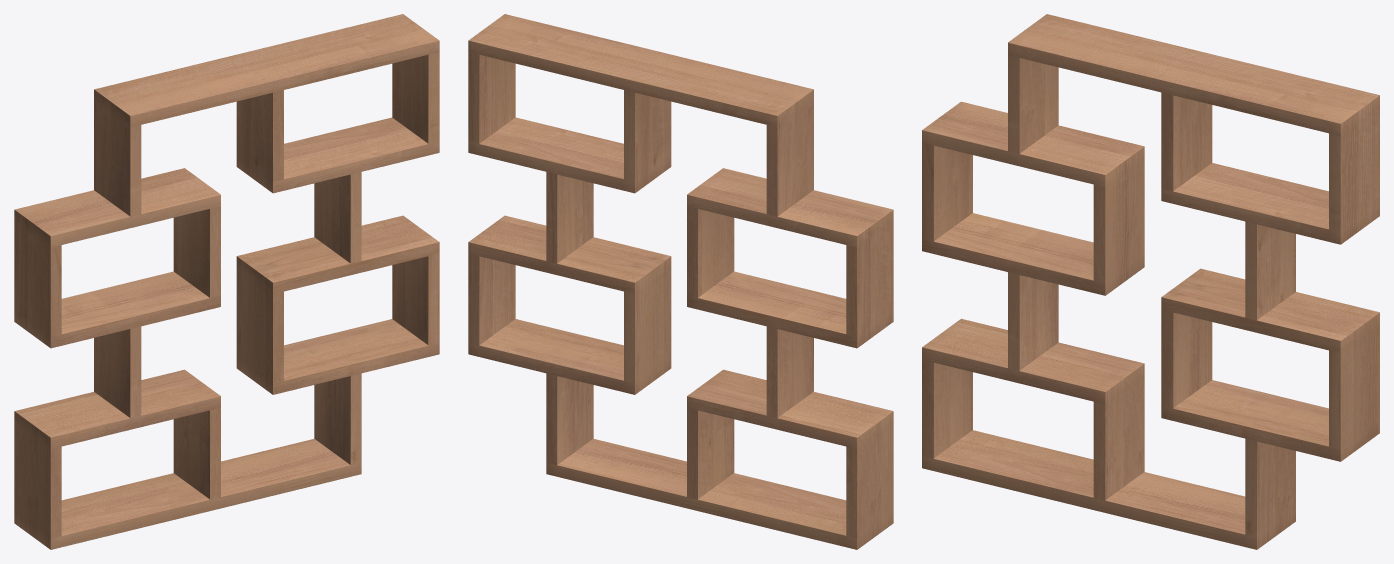
File: SSD.glb
3 renders of one model, left to right at view 1: azimuth 30°, elevation 25°; view 2: azimuth 150°, elevation 25°; view 3: azimuth 330°, elevation 25°, orthographic. The views are drawn at different scales.
Parts seen in each view (by area): view 1: Wooden Wardrobe; view 2: Wooden Wardrobe; view 3: Wooden Wardrobe.
Boxes of the visible parts, x1,y1,x2,y2 form: Wooden Wardrobe: (14,14,439,549); Wooden Wardrobe: (468,14,893,549); Wooden Wardrobe: (922,14,1379,549).
Bounding box in the file's own units: 1.05 × 1.07 × 0.17.
1 material, 1 textured.
